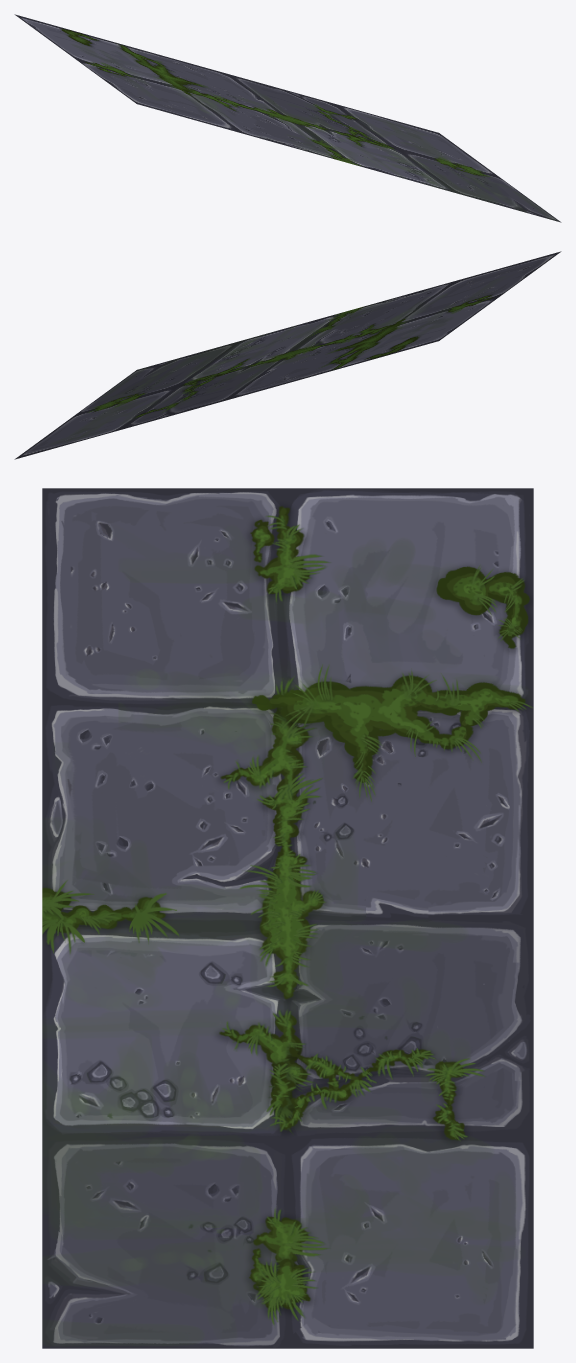
The model's file is MOD_Stairs_01_BotCap_3_half.fbx.
3 renders of one model, top to bottom at view 1: azimuth 30°, elevation 25°; view 2: azimuth 150°, elevation 25°; view 3: azimuth 270°, elevation 25°, orthographic. The views are drawn at different scales.
Parts seen in each view (by area): view 1: MOD_Stairs_01_BotCap_3_half; view 2: MOD_Stairs_01_BotCap_3_half; view 3: MOD_Stairs_01_BotCap_3_half.
Boxes of the visible parts, box(x1,y1,x2,y2) form: MOD_Stairs_01_BotCap_3_half: box(14, 14, 561, 222); MOD_Stairs_01_BotCap_3_half: box(14, 251, 561, 459); MOD_Stairs_01_BotCap_3_half: box(42, 488, 533, 1348).
Size of the model in its own units: 400 by 200 by 200.
